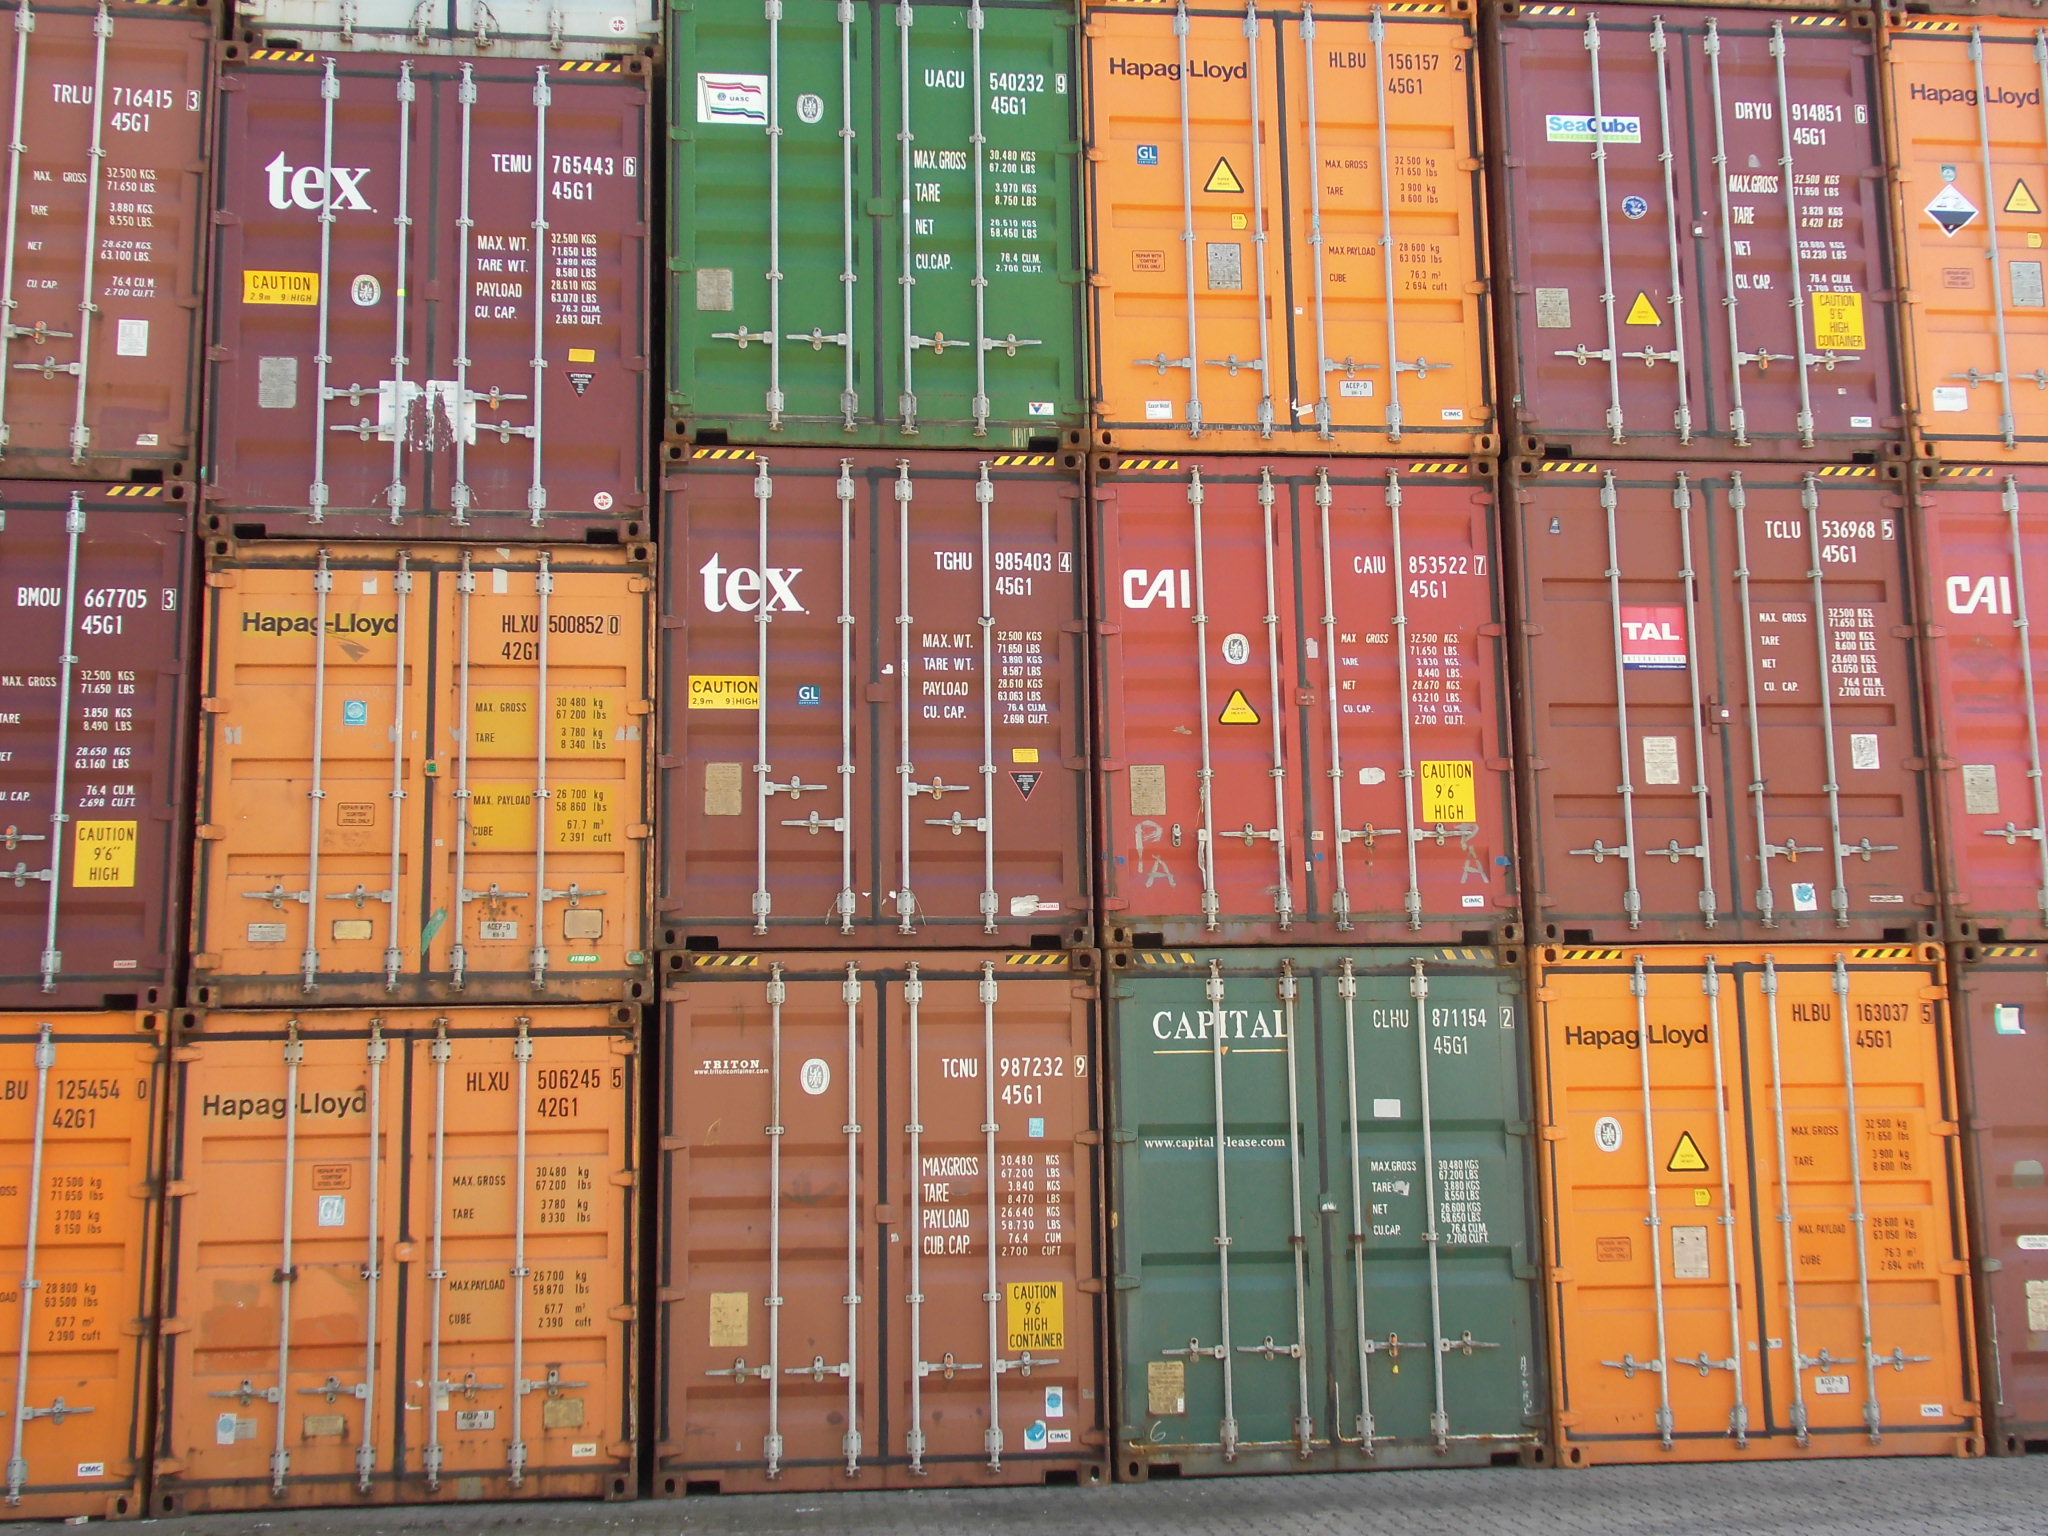container_door: (211, 52, 653, 542), (664, 970, 1093, 1468), (1114, 963, 1543, 1462), (1550, 950, 1979, 1449), (184, 1031, 622, 1496), (202, 536, 639, 1000), (1092, 466, 1513, 928), (1472, 2, 1895, 460), (1527, 476, 1948, 936), (660, 457, 1080, 916), (664, 2, 1085, 460), (1090, 2, 1511, 460)
